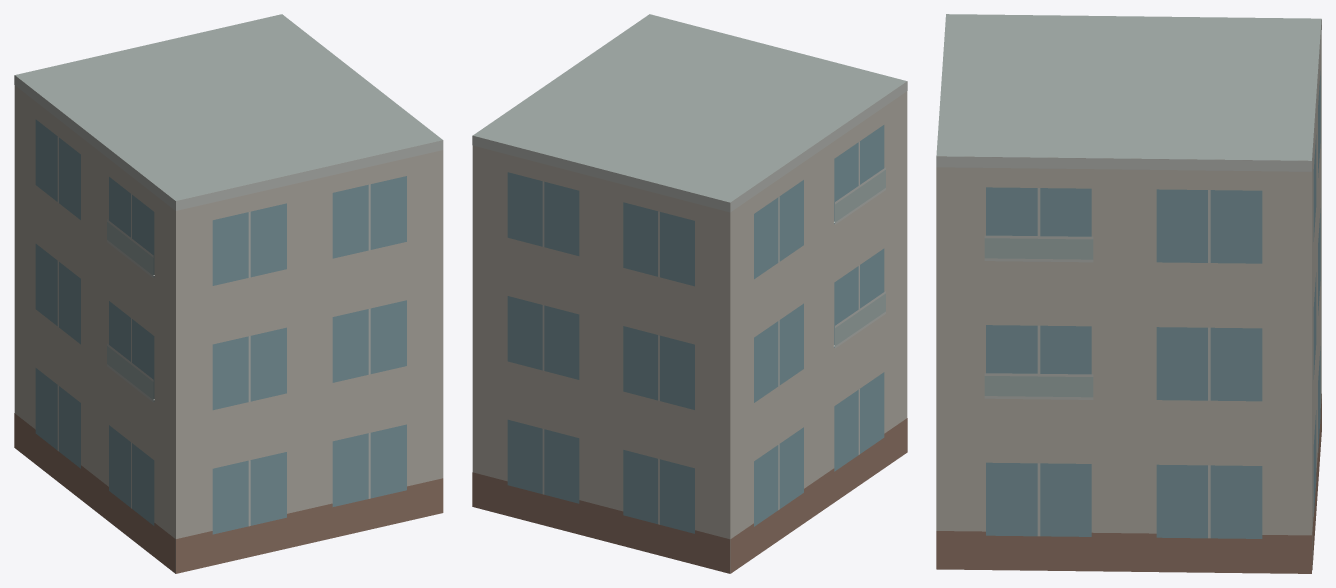
The model's file is survey-upis-32722554.glb.
3 renders of one model, left to right at view 1: azimuth 30°, elevation 25°; view 2: azimuth 150°, elevation 25°; view 3: azimuth 270°, elevation 25°, orthographic. The views are drawn at different scales.
Parts seen in each view (by area): view 1: survey-upis-32722554.tmp; view 2: survey-upis-32722554.tmp; view 3: survey-upis-32722554.tmp.
Part boxes in pixels (x1,y1,x2,y2): survey-upis-32722554.tmp: (14,14,443,573); survey-upis-32722554.tmp: (472,14,907,573); survey-upis-32722554.tmp: (936,14,1321,573).
Bounding box in the file's own units: 7.03 × 9.2 × 7.79.
